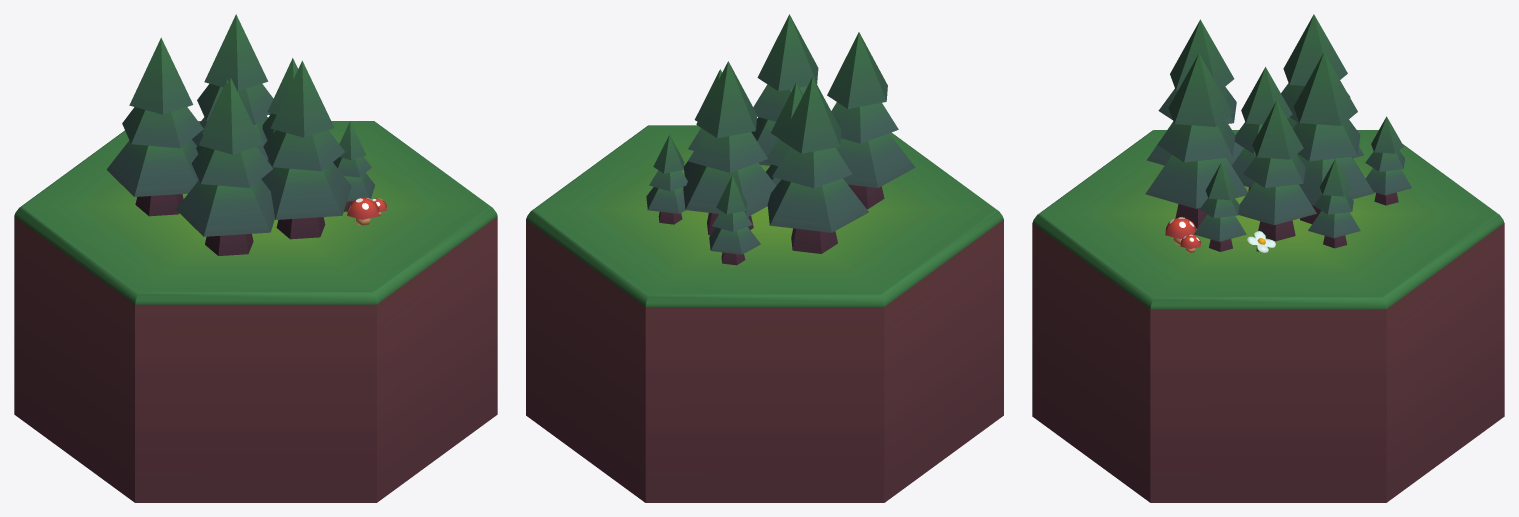
Rendered from forest.fbx.
The picture shows the model from 3 angles, left to right: view 1: azimuth 30°, elevation 25°; view 2: azimuth 150°, elevation 25°; view 3: azimuth 270°, elevation 25°; orthographic projection. The views are drawn at different scales.
Parts seen in each view (by area): view 1: hexagon_grass, Tree_Pine.052, Tree_Pine.054, Tree_Pine.045, Tree_Pine.049, Tree_Pine.046, Tree_Pine.044, Shroom.012; view 2: hexagon_grass, Tree_Pine.054, Tree_Pine.049, Tree_Pine.052, Tree_Pine.045, Tree_Pine.053, Tree_Pine.051, Tree_Pine.050, Tree_Pine.044; view 3: hexagon_grass, Tree_Pine.045, Tree_Pine.049, Tree_Pine.044, Tree_Pine.052, Tree_Pine.054, Tree_Pine.051, Tree_Pine.046, Tree_Pine.050, Tree_Pine.053, Shroom.012.
Part boxes in pixels (<box>): hexagon_grass: <box>14,121,497,502</box>; Tree_Pine.052: <box>176,77,274,255</box>; Tree_Pine.054: <box>106,37,203,216</box>; Tree_Pine.045: <box>261,60,351,239</box>; Tree_Pine.049: <box>192,14,273,160</box>; Tree_Pine.046: <box>333,121,374,211</box>; Tree_Pine.044: <box>262,58,297,163</box>; Shroom.012: <box>347,197,378,225</box>; hexagon_grass: <box>526,125,1003,502</box>; Tree_Pine.054: <box>767,76,868,253</box>; Tree_Pine.049: <box>683,61,776,235</box>; Tree_Pine.052: <box>827,32,915,209</box>; Tree_Pine.045: <box>751,14,818,165</box>; Tree_Pine.053: <box>709,175,760,265</box>; Tree_Pine.051: <box>646,134,687,224</box>; Tree_Pine.050: <box>764,82,802,185</box>; Tree_Pine.044: <box>684,69,722,177</box>; hexagon_grass: <box>1032,130,1504,502</box>; Tree_Pine.045: <box>1145,53,1247,228</box>; Tree_Pine.049: <box>1293,52,1374,223</box>; Tree_Pine.044: <box>1238,101,1316,241</box>; Tree_Pine.052: <box>1147,19,1243,165</box>; Tree_Pine.054: <box>1281,14,1363,158</box>; Tree_Pine.051: <box>1308,159,1360,248</box>; Tree_Pine.046: <box>1194,163,1246,251</box>; Tree_Pine.050: <box>1232,67,1292,191</box>; Tree_Pine.053: <box>1365,116,1411,205</box>; Shroom.012: <box>1165,217,1196,244</box>.
Size of the model in its own units: 366 by 364 by 423.
Materials: 2 (2 with a texture image).
